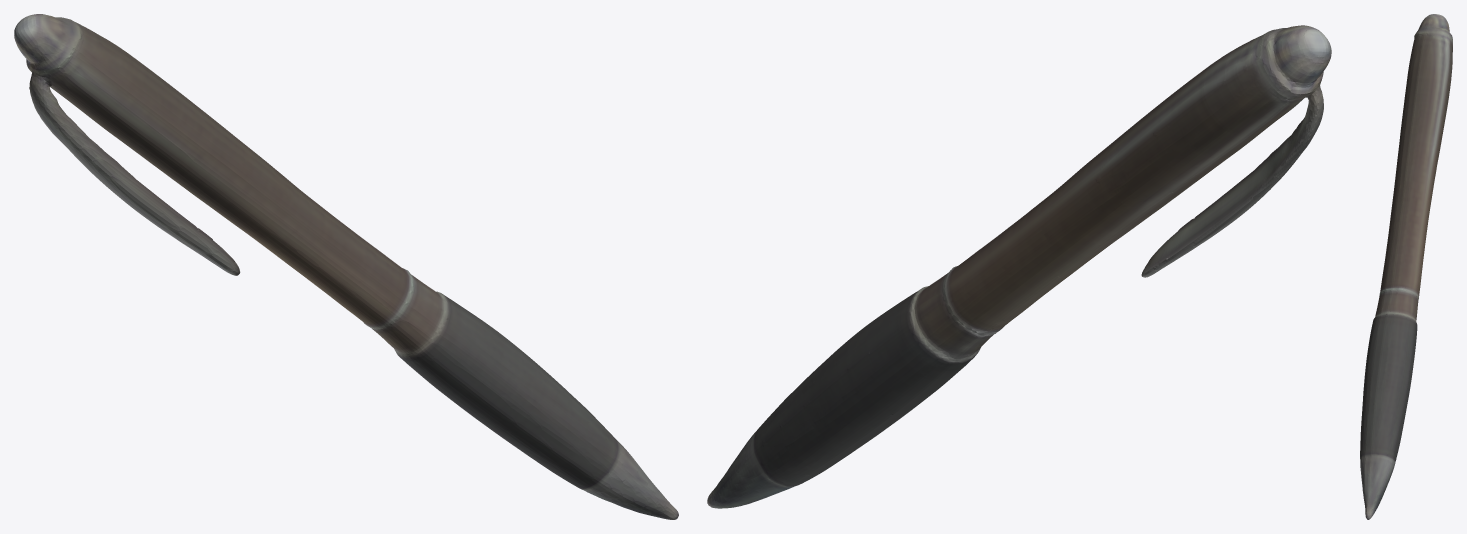
The model's file is frame_0018_source_000018_object.glb.
3 renders of one model, left to right at view 1: azimuth 30°, elevation 25°; view 2: azimuth 150°, elevation 25°; view 3: azimuth 270°, elevation 25°, orthographic. The views are drawn at different scales.
Parts seen in each view (by area): view 1: world; view 2: world; view 3: world.
Part boxes in pixels (box(x1,y1,x2,y2)): world: box(14, 14, 678, 519); world: box(707, 25, 1331, 508); world: box(1360, 14, 1452, 519).
Bounding box in the file's own units: 0.1396 × 0.1333 × 0.0327.
